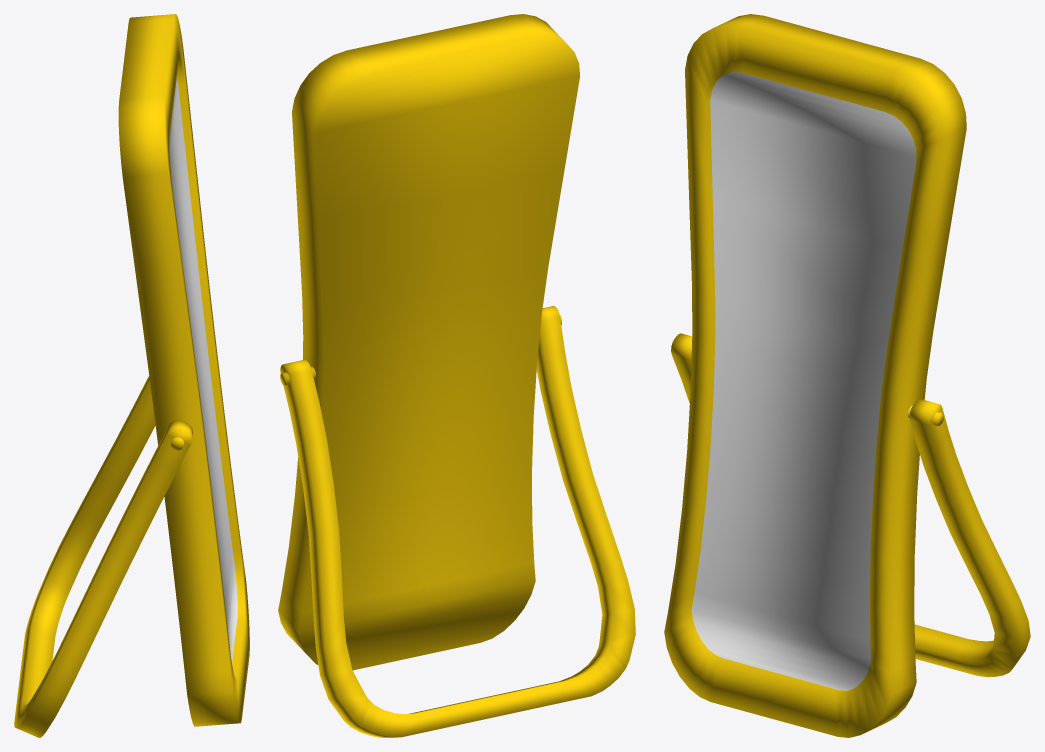
The model's file is Mirror.glb.
The picture shows the model from 3 angles, left to right: view 1: azimuth 30°, elevation 25°; view 2: azimuth 150°, elevation 25°; view 3: azimuth 270°, elevation 25°; orthographic projection. The views are drawn at different scales.
Visible parts, largest first — view 1: Mirror; view 2: Mirror; view 3: Mirror.
Boxes of the visible parts, x1,y1,x2,y2 form: Mirror: (14,14,249,737); Mirror: (278,14,635,737); Mirror: (664,14,1030,737).
Bounding box in the file's own units: 7.3 × 15.44 × 7.91.
2 materials, 1 textured.
